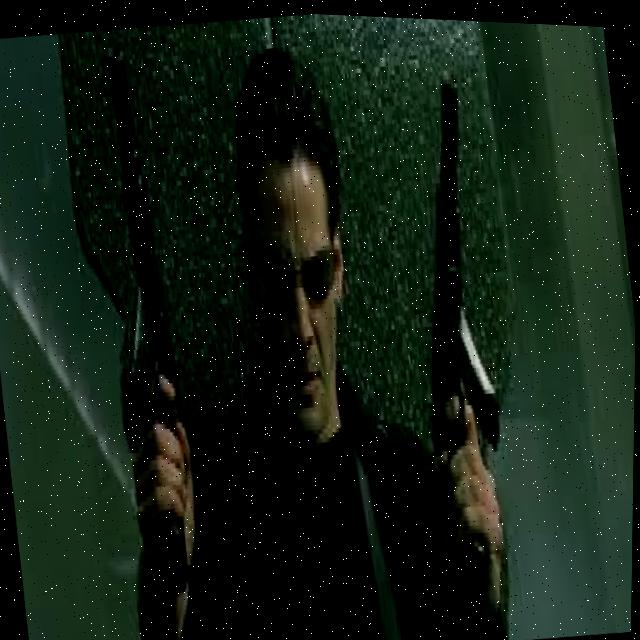pistol: (386, 65, 527, 607), (82, 29, 215, 599)
